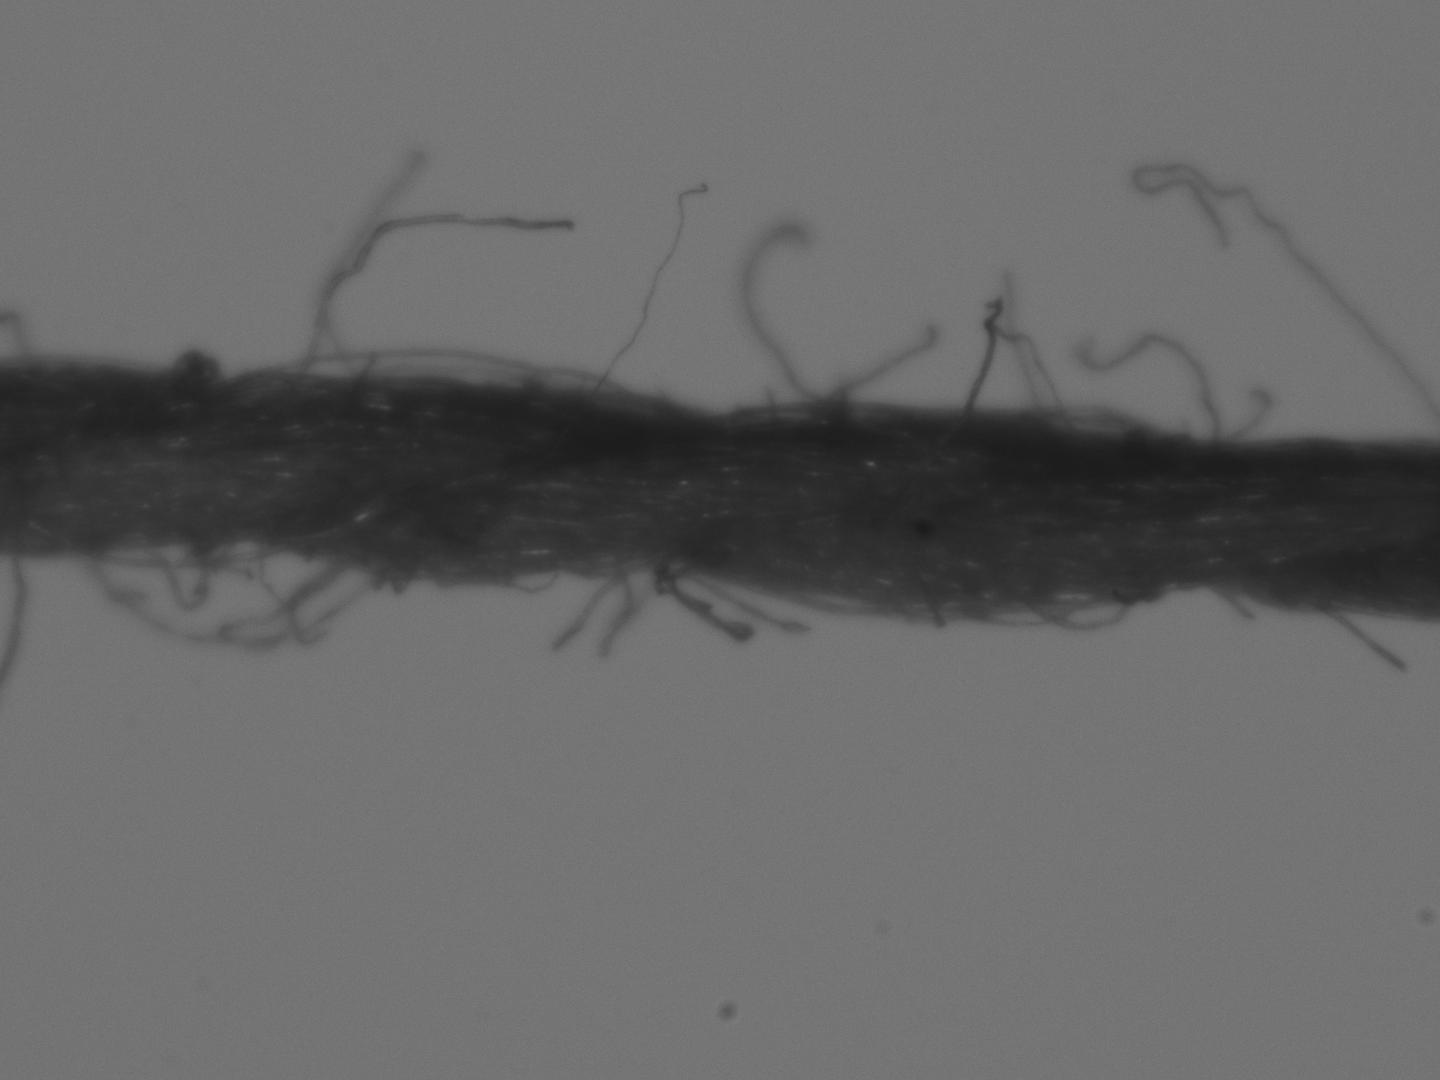loop_fiber: (74, 549, 643, 650), (240, 344, 708, 427), (705, 566, 1221, 632), (955, 293, 1076, 432), (655, 554, 757, 648), (134, 348, 227, 372)
protruding_fiber: (1127, 159, 1438, 441), (321, 209, 585, 377), (294, 145, 425, 379), (584, 179, 713, 404), (1078, 329, 1220, 449), (742, 220, 825, 414), (550, 558, 655, 656), (839, 315, 945, 411), (1307, 605, 1413, 673), (1230, 385, 1271, 450)
